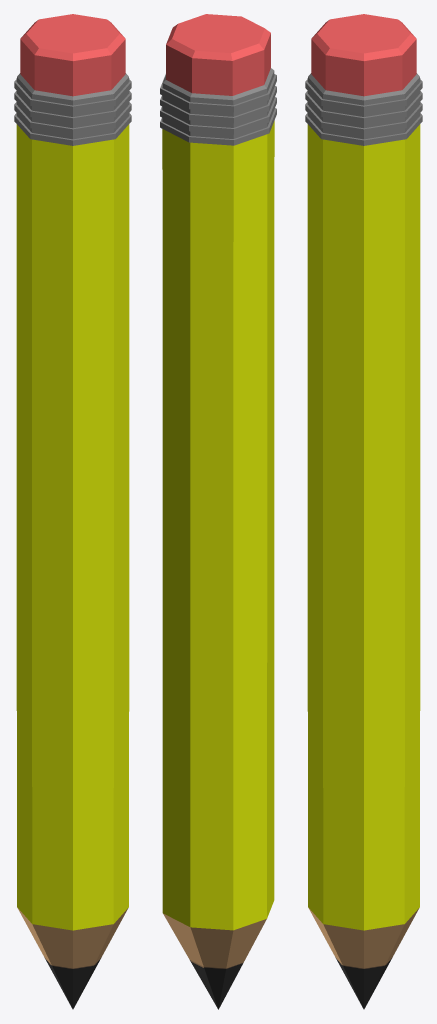
Rendered from pencil.fbx.
The picture shows the model from 3 angles, left to right: view 1: azimuth 90°, elevation 25°; view 2: azimuth 150°, elevation 25°; view 3: azimuth 270°, elevation 25°; orthographic projection.
Parts seen in each view (by area): view 1: Cube; view 2: Cube; view 3: Cube.
Part boxes in pixels (<box>): Cube: <box>14,14,131,1009</box>; Cube: <box>160,14,276,1009</box>; Cube: <box>305,14,422,1009</box>.
Bounding box in the file's own units: 192 × 1760 × 192.
